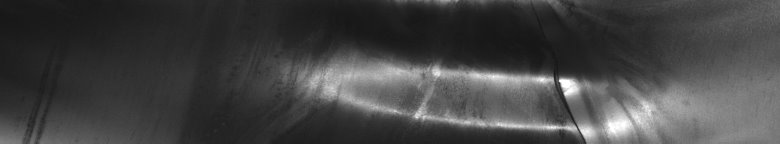ke: (332, 4, 591, 136)
